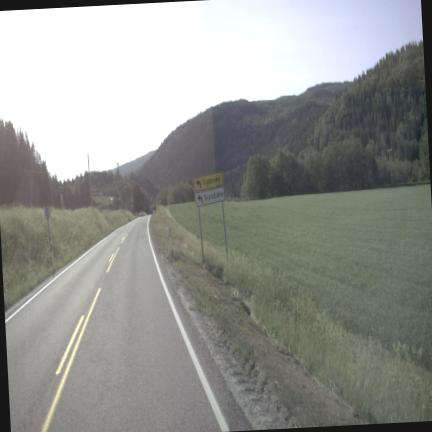Road: (5, 217, 248, 431)
